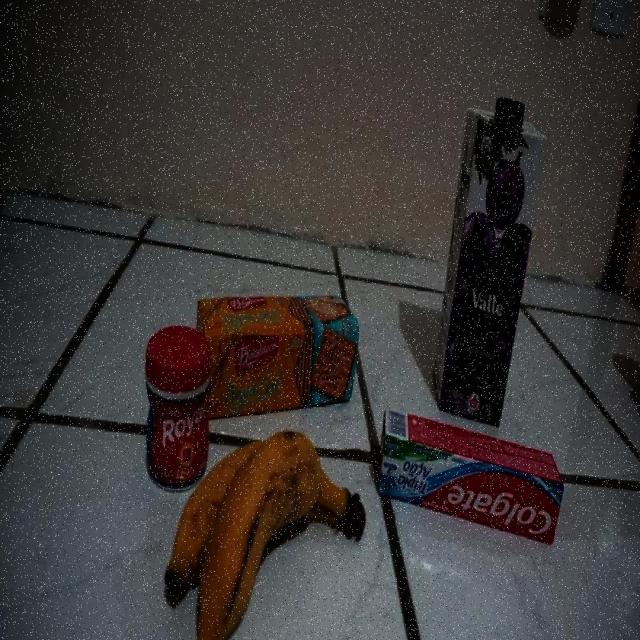Banana: (212, 421, 371, 640)
Cracker: (211, 294, 360, 414)
Toothpaste: (382, 412, 572, 546)
Yeast: (144, 328, 210, 487)
